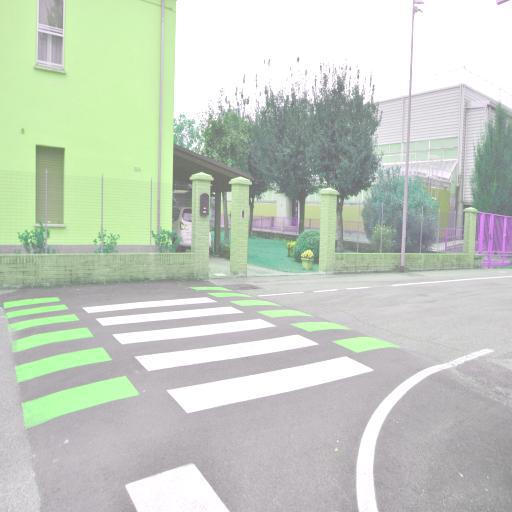crosswalk: (134, 328, 374, 418)
